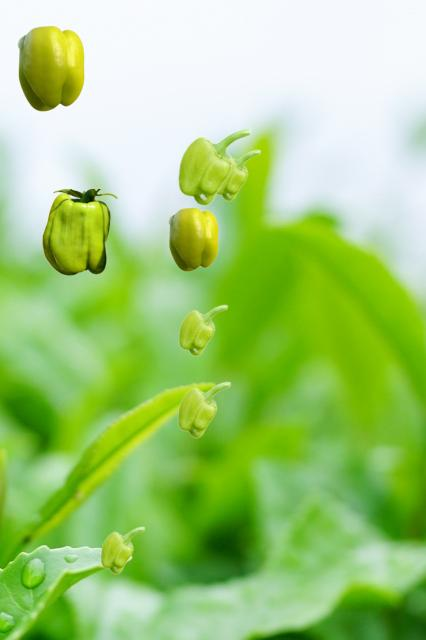bell_pepper: (42, 189, 116, 274), (177, 127, 251, 205), (17, 25, 83, 110), (168, 207, 217, 270), (177, 381, 230, 437), (178, 304, 227, 355), (217, 149, 260, 200), (100, 526, 144, 573)
